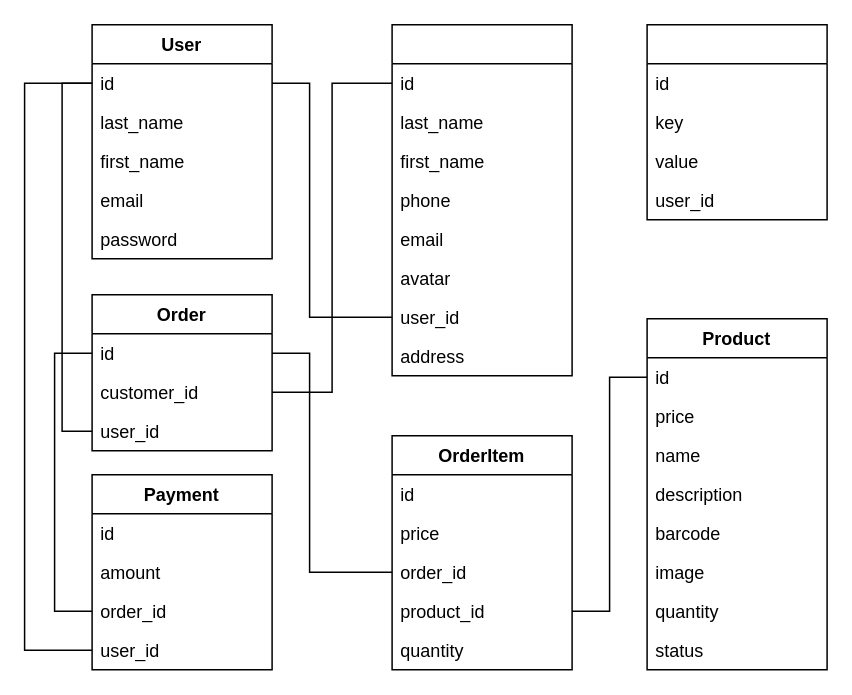
Some shapes in this 852 by 695 pixel diagram are drawn without their labels. Each missing label, with the box of its shape:
Customer: (391, 23, 572, 376)
Setting: (646, 23, 827, 220)
